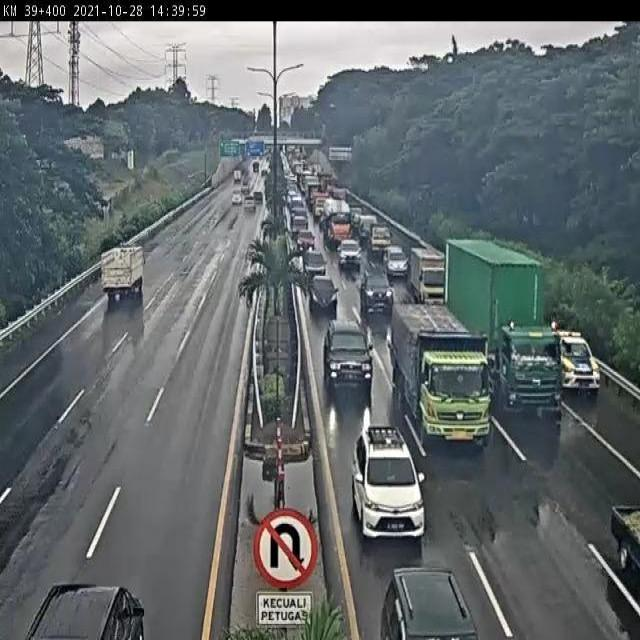big truck: (443, 238, 563, 422), (390, 303, 490, 447)
car: (350, 426, 425, 538), (324, 316, 373, 388), (554, 326, 602, 391), (359, 263, 395, 309), (378, 241, 408, 275), (308, 275, 337, 309), (337, 237, 363, 268), (368, 220, 393, 252), (302, 248, 324, 275)
mid truck: (99, 244, 143, 300)
small truck: (409, 250, 447, 302)
